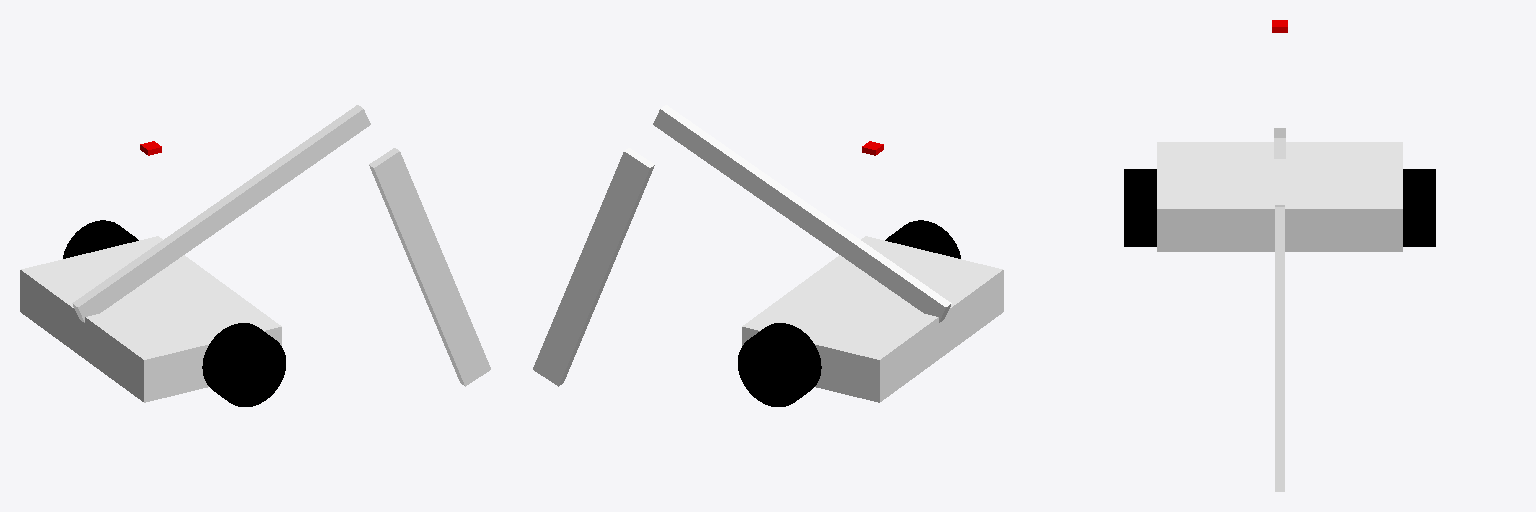
The robot description file, URDF, robot "visual":
<?xml version="1.0" ?>
<robot name="visual">
    <material name="blue">
        <color rgba="0 0 0.8 1" />
    </material>
    <material name="black">
        <color rgba="0 0 0 1" />
    </material>
    <material name="white">
        <color rgba="1 1 1 1" />
    </material>
    <material name="red">
        <color rgba="1 0 0 0" />
    </material>
    <link name="base_link">
        <visual>
            <geometry>
                <box size="0.3429 0.5334 0.1016" />
            </geometry>
            <material name="white" />
            <origin xyz="0 0 0" />
        </visual>
    </link>
    <link name="right_wheel">
        <visual>
            <origin rpy="1.57075 0 0" xyz="0 0 0" />
            <geometry>
                <cylinder length="0.071" radius="0.084074" />
            </geometry>
            <material name="black" />
        </visual>
    </link>
    <joint name="right_wheel_joint" type="continuous">
        <axis rpy="0 0 0" xyz="0 1 0" />
        <parent link="base_link" />
        <child link="right_wheel" />
        <origin rpy="0 0 0" xyz="0.05715 -0.3022 0" />
    </joint>
    <link name="left_wheel">
        <visual>
            <origin rpy="1.57075 0 0" xyz="0 0 0" />
            <geometry>
                <cylinder length="0.071" radius="0.084074" />
            </geometry>
            <material name="black" />
        </visual>
    </link>
    <joint name="left_wheel_joint" type="continuous">
        <axis rpy="0 0 0" xyz="0 1 0" />
        <parent link="base_link" />
        <child link="left_wheel" />
        <origin rpy="0 0 0" xyz="0.05715 0.3022 0" />
    </joint>
    <link name="imu">
        <visual>
            <origin rpy="0 0 0" xyz="0 0 -0.0065" />
            <geometry>
                <box size="0.035 0.035 0.013" />
            </geometry>
            <material name="red" />
        </visual>
    </link>
    <joint name="base_to_imu" type="fixed">
        <parent link="base_link" />
        <child link="imu" />
        <origin rpy="3.1416 0 0" xyz="0 0 0.4" />
    </joint>
    <link name="lever_arm">
        <visual>
            <origin rpy="0 0 0" xyz="0.38735 0 0.023" />
            <geometry>
                <box size="0.7747 0.0254 0.046" />
            </geometry>
            <material name="white" />
        </visual>
    </link>
    <joint name="base_to_lever_arm" type="revolute">
        <parent link="base_link" />
        <child link="lever_arm" />
        <axis xyz="0 1 0" />
        <limit effort="1000.0" lower="5.5676" upper="6.1832" velocity="1" />
        <origin xyz="-0.17145 0 0.034925" />
    </joint>
    <link name="digging_arm">
        <visual>
            <origin rpy="0 0 0" xyz="0.307975 0 0" />
            <geometry>
                <box size="0.61595 0.0222 0.07" />
            </geometry>
            <material name="white" />
        </visual>
    </link>
    <joint name="lever_arm_to_digging_arm" type="revolute">
        <parent link="lever_arm" />
        <child link="digging_arm" />
        <axis xyz="0 1 0" />
        <limit effort="1000.0" lower="1.2" upper="2" velocity="1" />
        <origin xyz="0.7747 0 -0.1016" />
    </joint>
    
<transmission name="trans_right_wheel_joint">
        <type>transmission_interface/SimpleTransmission</type>
        <joint name="right_wheel_joint">
            <hardwareInterface>hardware_interface/EffortJointInterface</hardwareInterface>
        </joint>
        <actuator name="right_wheel_joint_motor">
            <hardwareInterface>hardware_interface/EffortJointInterface</hardwareInterface>
            <mechanicalReduction>1</mechanicalReduction>
        </actuator>
    </transmission>
    <transmission name="trans_left_wheel_joint">
        <type>transmission_interface/SimpleTransmission</type>
        <joint name="left_wheel_joint">
            <hardwareInterface>hardware_interface/EffortJointInterface</hardwareInterface>
        </joint>
        <actuator name="left_wheel_joint_motor">
            <hardwareInterface>hardware_interface/EffortJointInterface</hardwareInterface>
            <mechanicalReduction>1</mechanicalReduction>
        </actuator>
    </transmission>
    <transmission name="trans_base_to_lever_arm">
        <type>transmission_interface/SimpleTransmission</type>
        <joint name="base_to_lever_arm">
            <hardwareInterface>hardware_interface/PositionJointInterface</hardwareInterface>
        </joint>
        <actuator name="base_to_lever_arm_motor">
            <hardwareInterface>hardware_interface/PositionJointInterface</hardwareInterface>
            <mechanicalReduction>1</mechanicalReduction>
        </actuator>
    </transmission>
    <transmission name="trans_lever_arm_to_digging_arm">
        <type>transmission_interface/SimpleTransmission</type>
        <joint name="lever_arm_to_digging_arm">
            <hardwareInterface>hardware_interface/PositionJointInterface</hardwareInterface>
        </joint>
        <actuator name="lever_arm_to_digging_arm_motor">
            <hardwareInterface>hardware_interface/PositionJointInterface</hardwareInterface>
            <mechanicalReduction>1</mechanicalReduction>
        </actuator>
    </transmission>
    <gazebo>
        <plugin name="gazebo_ros_control" filename="libgazebo_ros_control.so">
            <robotNamespace>/</robotNamespace>
        </plugin>
    </gazebo>
</robot>

--- What the picture shows (computed from the rendered views, not written in the file) ---
Views: 3 orthographic renders of the robot side by side, from view 1: azimuth 30°, elevation 25°; view 2: azimuth 150°, elevation 25°; view 3: azimuth 270°, elevation 25°.
Robot: visual — 6 links, 5 joints (2 revolute, 2 continuous, 1 fixed); root link base_link; default pose: all joints at 0 but 2 set to mid-range because 0 is outside their limits (base_to_lever_arm = 5.88, lever_arm_to_digging_arm = 1.6).
Links seen in each view (by area): view 1: base_link, lever_arm, digging_arm, right_wheel, left_wheel; view 2: base_link, lever_arm, digging_arm, left_wheel, right_wheel; view 3: base_link, digging_arm, right_wheel, left_wheel.
Boxes of the visible links, <box> form: base_link: <box>20,236,281,402</box>; lever_arm: <box>72,105,370,322</box>; digging_arm: <box>369,148,490,386</box>; right_wheel: <box>202,323,285,406</box>; left_wheel: <box>63,220,138,258</box>; base_link: <box>742,236,1003,402</box>; lever_arm: <box>653,105,951,322</box>; digging_arm: <box>533,148,654,386</box>; left_wheel: <box>738,323,821,406</box>; right_wheel: <box>885,220,960,258</box>; base_link: <box>1157,142,1402,251</box>; digging_arm: <box>1275,205,1284,491</box>; right_wheel: <box>1124,169,1156,246</box>; left_wheel: <box>1403,169,1435,246</box>.
Bounding box of the posed robot: 1.03 × 0.6754 × 0.7494 m (x, y, z).
Geometry: primitives only (box / cylinder / sphere), no mesh files.